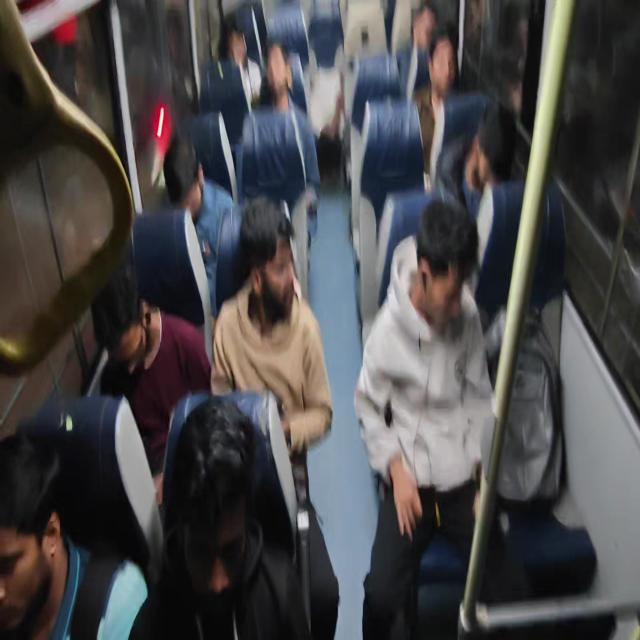person: (158, 442, 318, 640), (0, 382, 60, 639), (166, 128, 224, 259), (418, 231, 476, 338), (92, 263, 150, 366), (236, 244, 300, 334), (309, 64, 350, 158), (405, 4, 455, 74), (216, 14, 258, 76), (474, 138, 511, 200), (263, 41, 298, 104), (436, 31, 466, 101)
